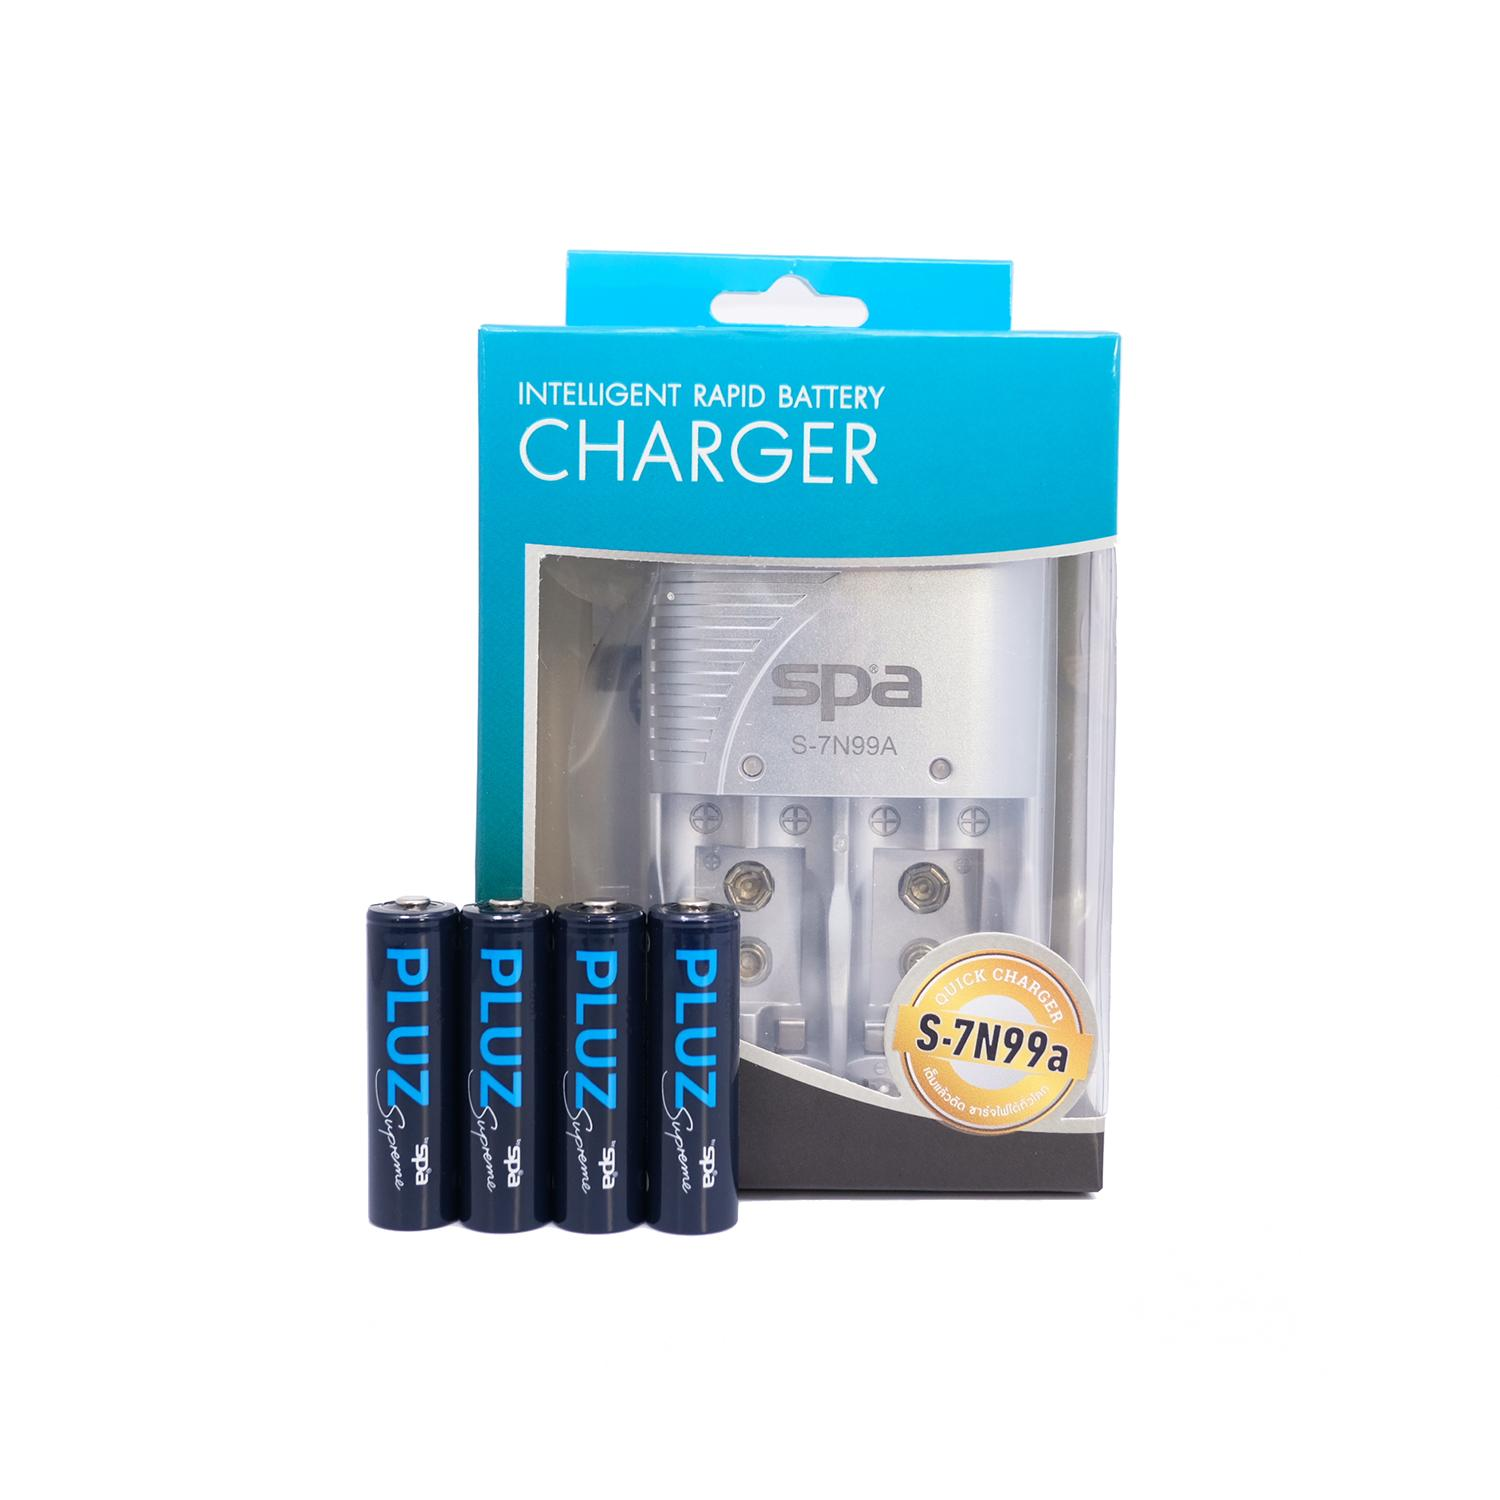Battery: (357, 891, 466, 1235), (644, 896, 740, 1238), (457, 891, 549, 1238), (552, 894, 641, 1238)
